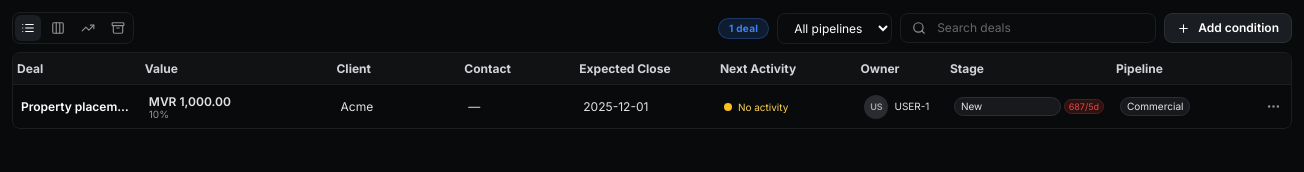
Test: Deal list row accessibility › shows a sort arrow only after sorting is changed by the user
The width and height of the screenshot is (1304, 172).
Click the button with aria-label "Sort by Expected Close Date" at (625, 68), box [579,61,671,76]
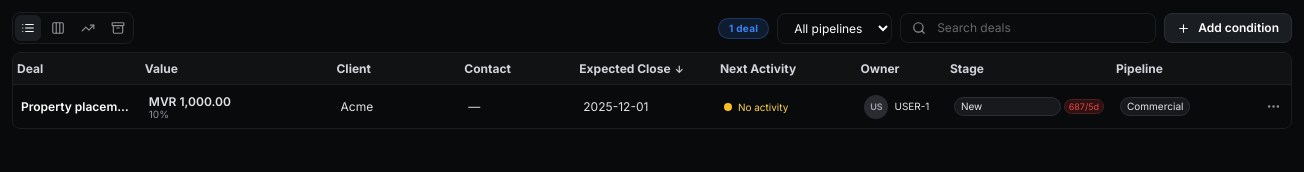
Result: the text "↓" is shown at [675,64,684,74]
